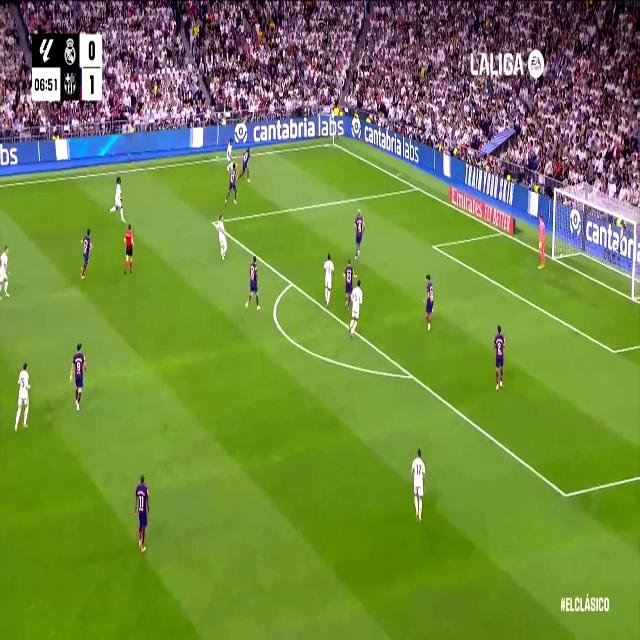bigarea_bottom_inner: (559, 478, 572, 509)
bigarea_top_inner: (209, 213, 217, 231)
bottom_arc_area_intersection: (406, 363, 416, 386)
corner: (328, 138, 338, 149)
smallarea_bottom_inner: (609, 340, 619, 362)
smallarea_top_inner: (429, 237, 438, 255)
top_arc_area_intersection: (287, 273, 297, 292)
